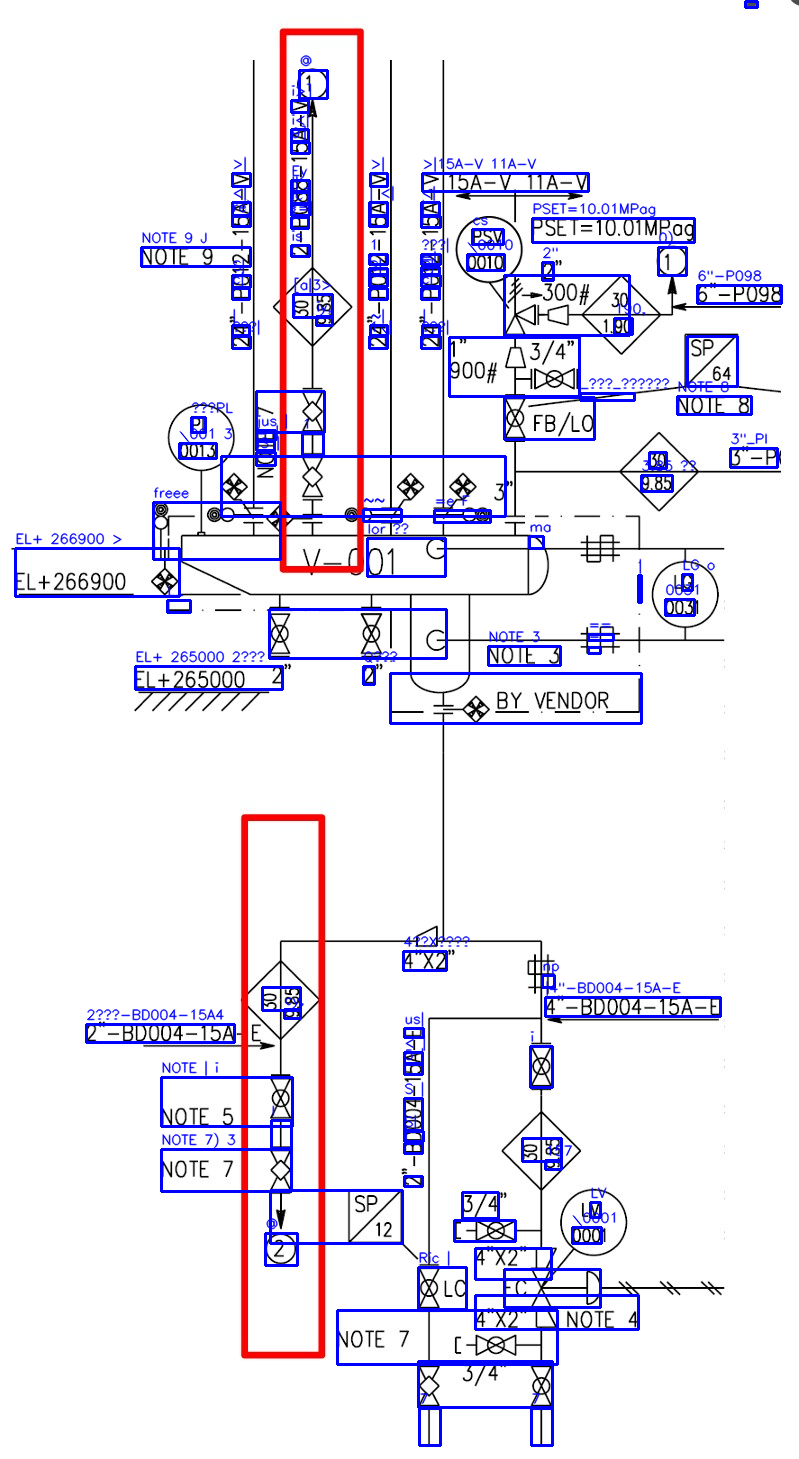Instrumento: (166, 403, 236, 474)
Vaso: (178, 533, 553, 599)
Válvula: (522, 1185, 636, 1333), (451, 215, 542, 341), (355, 602, 386, 661), (264, 605, 297, 660), (414, 1259, 443, 1318), (297, 450, 328, 505), (298, 382, 327, 440), (528, 1358, 558, 1414), (526, 365, 583, 394), (500, 390, 529, 446), (415, 1358, 443, 1413), (267, 1143, 294, 1199), (267, 1069, 293, 1125), (472, 1332, 522, 1358)
